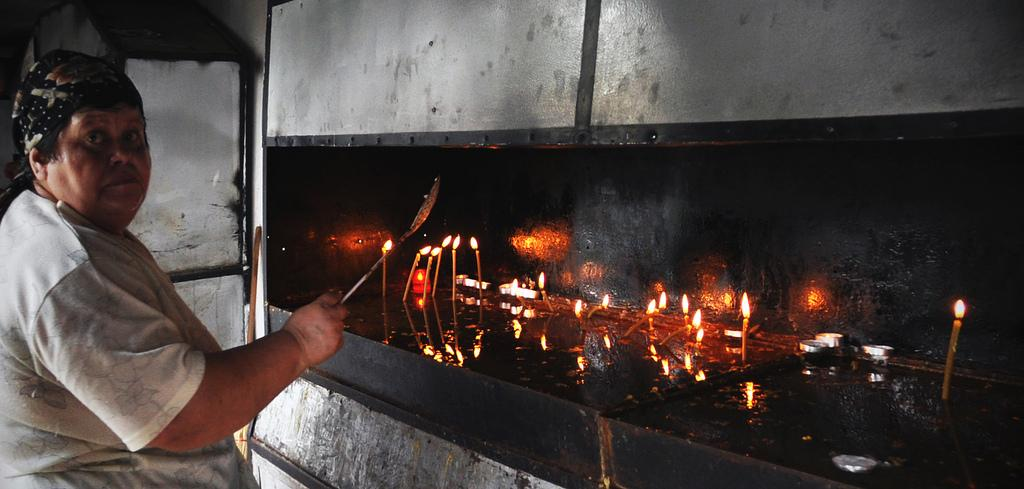fire: (648, 289, 755, 335), (382, 235, 480, 258)
